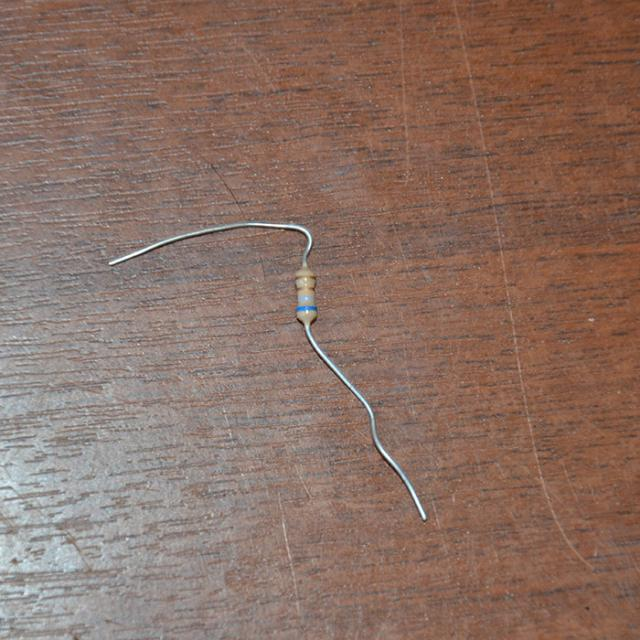blue: (296, 304, 315, 311)
gold: (295, 274, 314, 282), (296, 285, 316, 292)
grey: (298, 296, 316, 302)
resistor: (279, 259, 325, 331)
